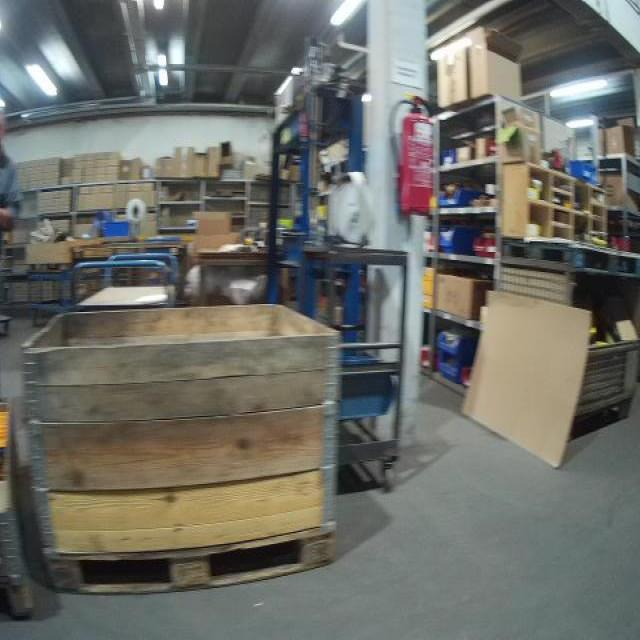pallet: (45, 521, 339, 597)
stillage: (493, 255, 639, 445)
